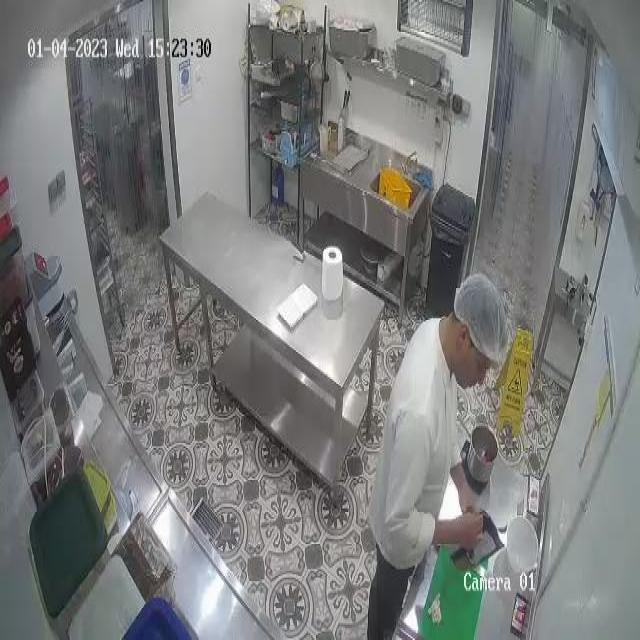hairnet: (453, 278, 508, 356)
